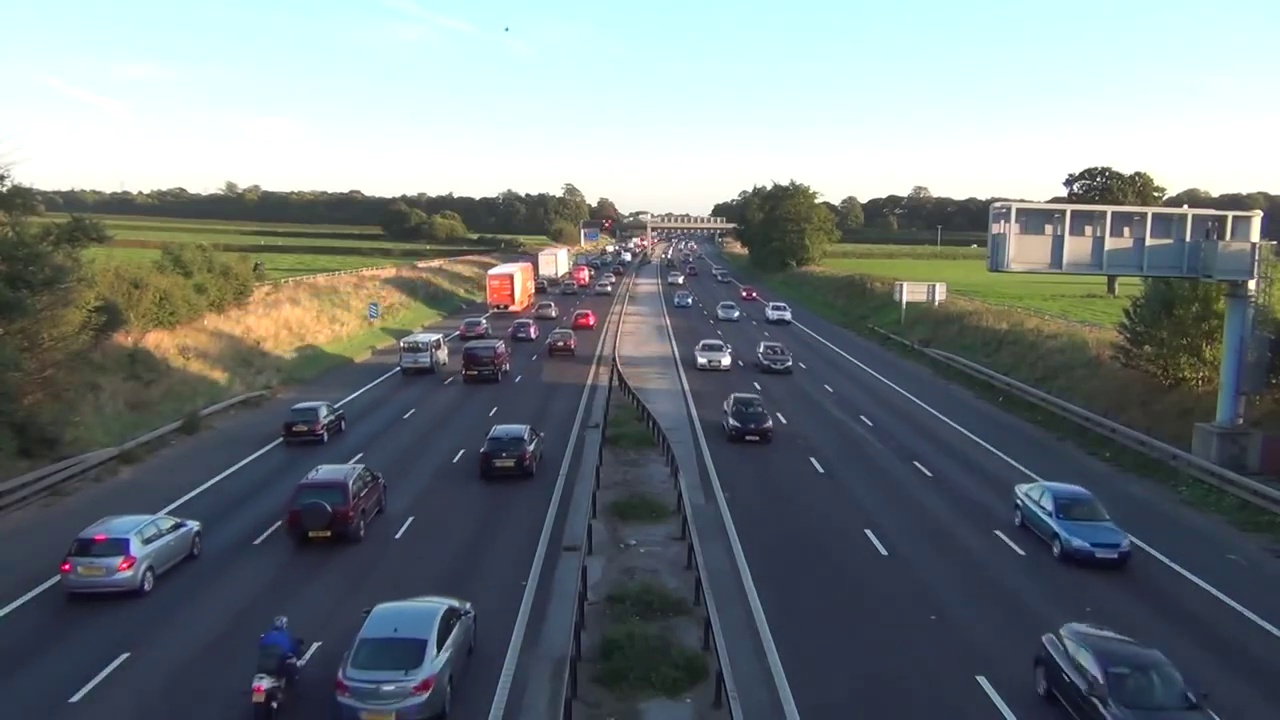bus: (328, 591, 483, 716), (1032, 613, 1211, 717), (56, 509, 207, 600), (1003, 476, 1129, 571), (283, 458, 388, 541), (472, 418, 553, 481), (278, 401, 346, 449), (725, 390, 773, 449), (692, 337, 734, 374), (755, 341, 798, 376), (763, 300, 797, 325), (546, 329, 577, 356), (508, 318, 537, 342), (460, 318, 493, 339), (713, 299, 741, 323), (572, 310, 599, 331), (536, 300, 558, 320), (674, 290, 694, 308), (739, 287, 758, 303), (668, 270, 684, 287), (717, 269, 732, 286), (559, 280, 578, 293), (594, 280, 611, 294), (535, 278, 547, 292), (602, 273, 617, 284), (663, 258, 679, 268), (686, 264, 699, 276), (711, 264, 723, 277), (609, 266, 623, 273), (587, 267, 595, 279), (590, 261, 601, 268)
car: (486, 262, 537, 313), (536, 247, 570, 286)
jeep: (239, 607, 302, 712)
lorry: (461, 339, 509, 382), (399, 333, 449, 374), (569, 259, 574, 275)
minibus: (571, 265, 589, 287)
